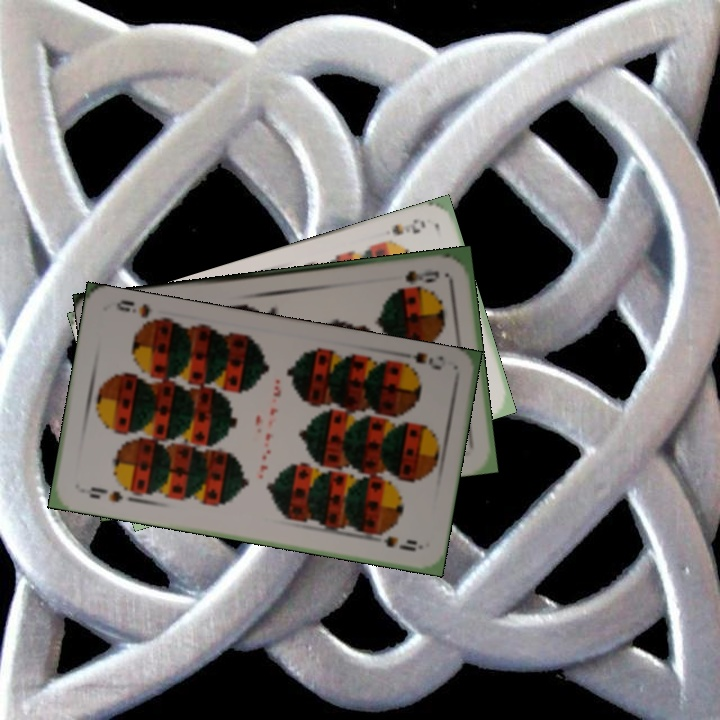S9: (374, 214, 429, 249), (393, 347, 444, 375), (85, 483, 126, 505)
SO: (401, 266, 442, 287)
